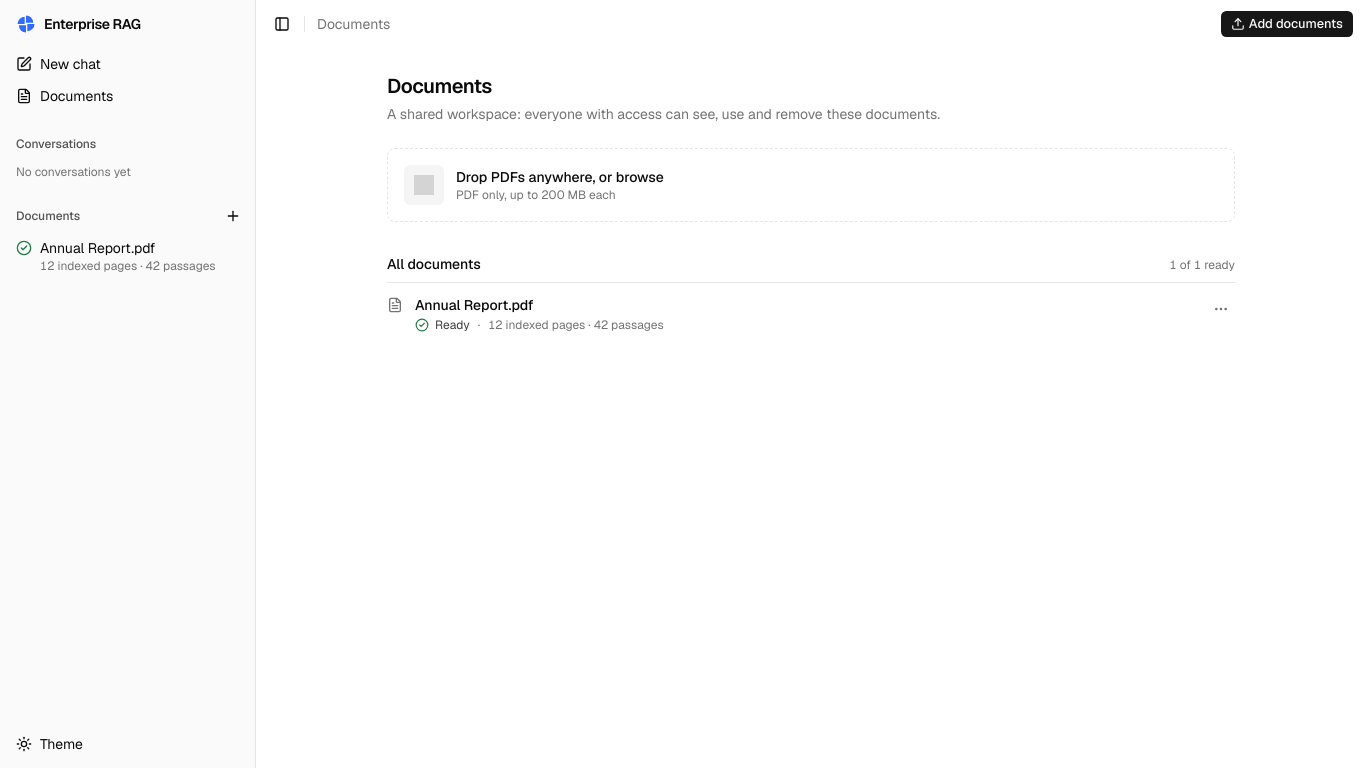
keeps the document and explains when deletion fails
What coordinates should you click on to do the following:
click the button named "Actions for Annual Report.pdf"
I would click on:
 (1221, 309)
Its box is x1=1207 y1=295 x2=1235 y2=323.
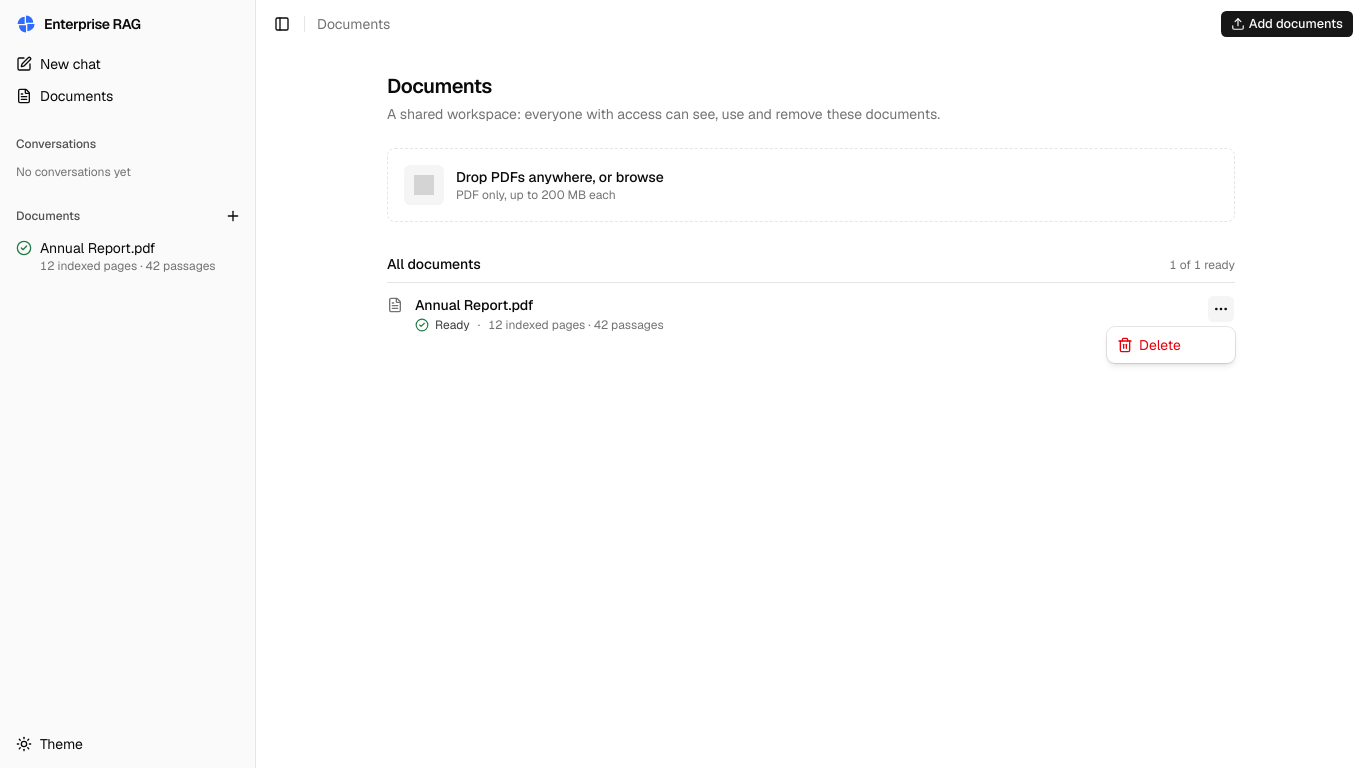
What coordinates should you click on to do the following:
click the menu item "Delete"
I would click on:
 (1149, 345)
Its box is x1=1117 y1=336 x2=1181 y2=354.
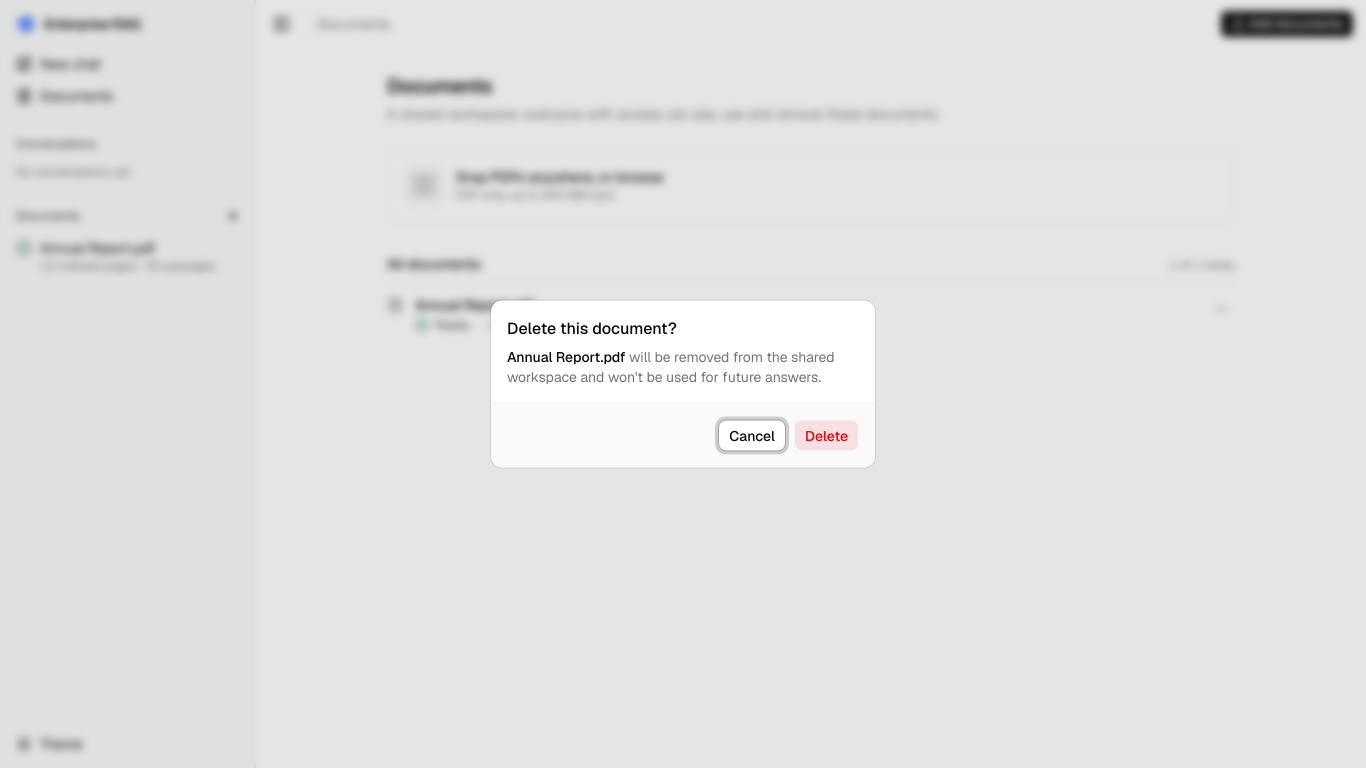
What coordinates should you click on to do the following:
click the button "Delete"
I would click on:
 (826, 436)
Its box is x1=794 y1=420 x2=859 y2=452.
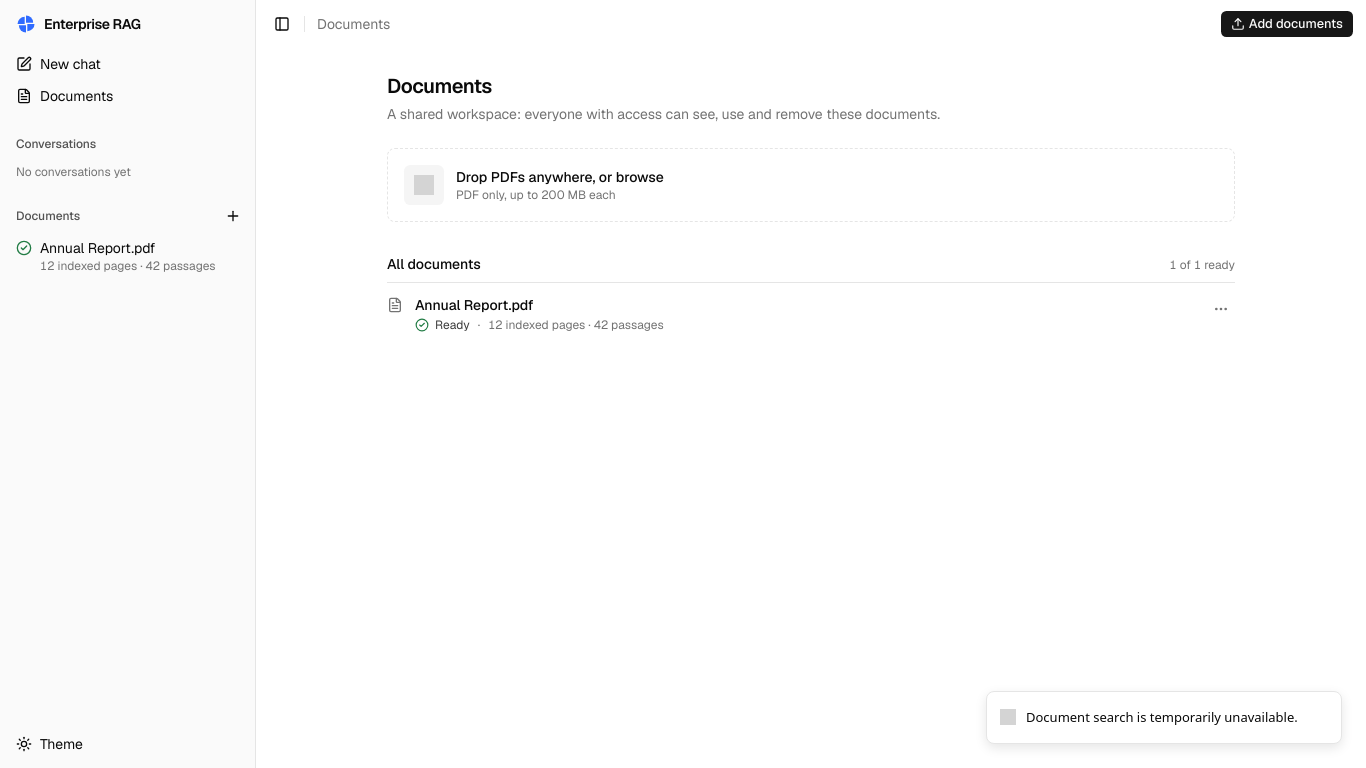
Expected: the text "Document search is temporarily unavailable." is shown, x1=1026 y1=708 x2=1298 y2=727
